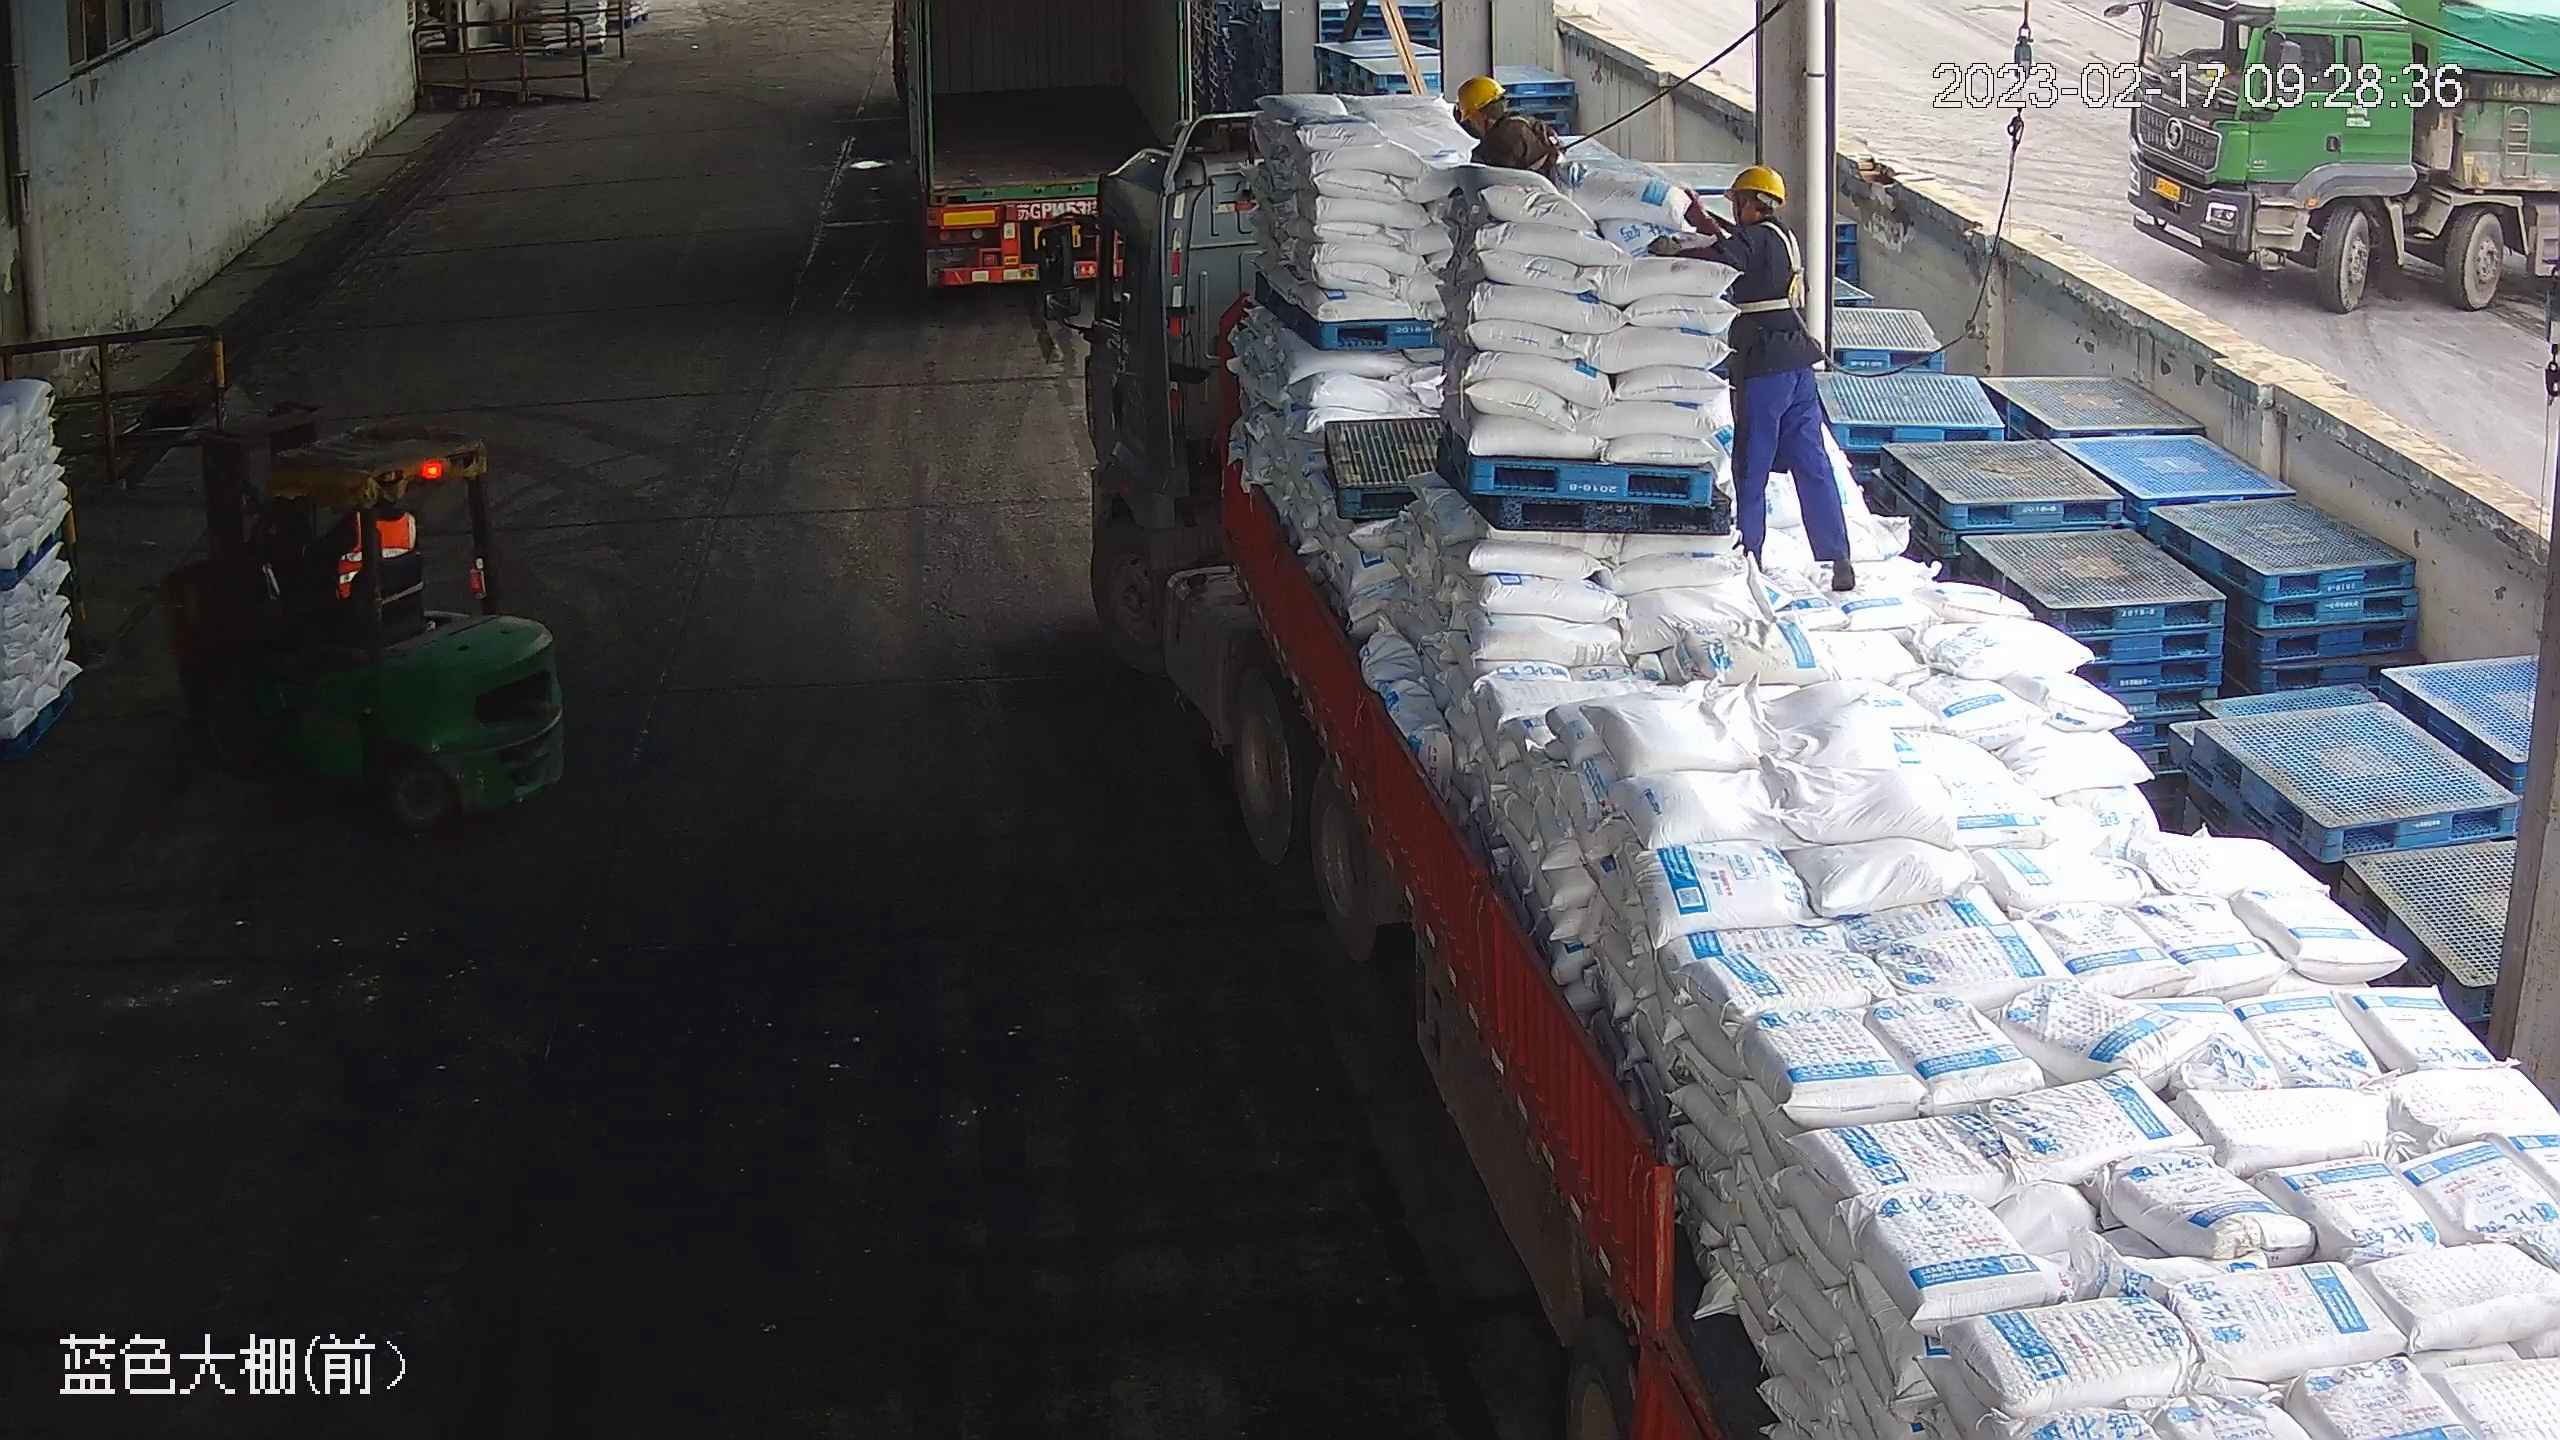belt: (1703, 165, 1808, 275), (1730, 220, 1811, 316), (1496, 113, 1547, 167)
head: (1703, 165, 1809, 273), (1455, 73, 1552, 160), (1728, 163, 1786, 210)
helmet: (1728, 163, 1786, 209), (1451, 73, 1503, 120)
people: (1664, 158, 1857, 594)
truck: (1044, 142, 2559, 1440), (881, 1, 1205, 295)
